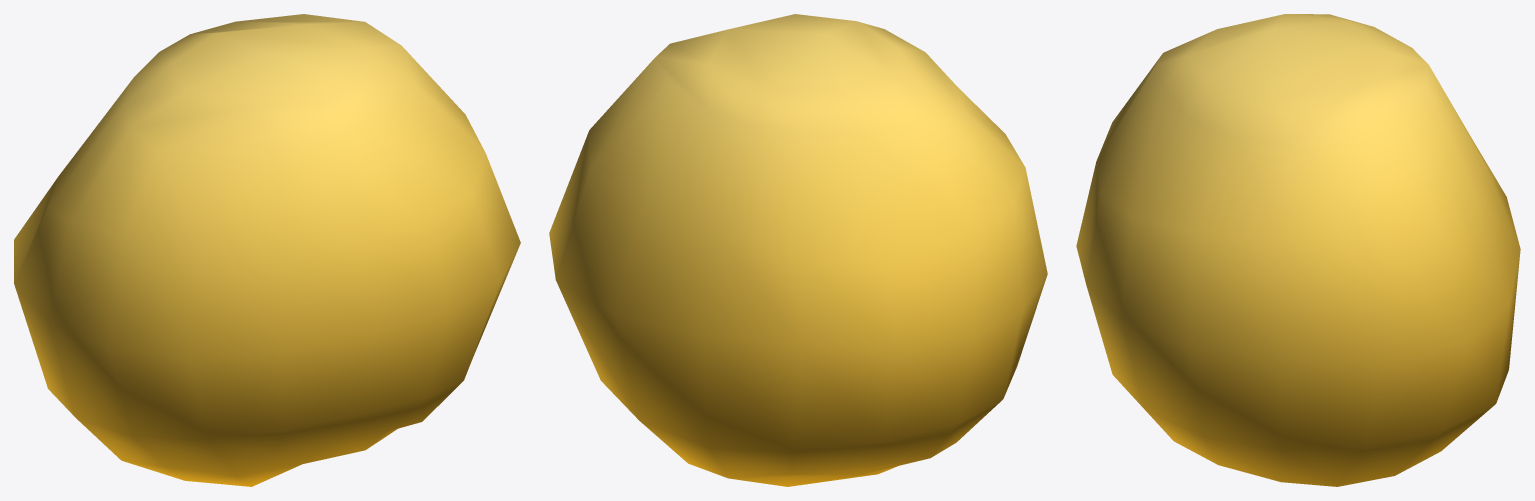
File: patato_006.fbx
The picture shows the model from 3 angles, left to right: view 1: azimuth 30°, elevation 25°; view 2: azimuth 150°, elevation 25°; view 3: azimuth 270°, elevation 25°; orthographic projection. The views are drawn at different scales.
Visible parts, largest first — view 1: patato_006; view 2: patato_006; view 3: patato_006.
Part boxes in pixels (x1,y1,x2,y2): patato_006: (14,14,520,486); patato_006: (549,14,1047,486); patato_006: (1076,14,1520,486).
Bounding box in the file's own units: 5.81 × 4.96 × 5.52.
